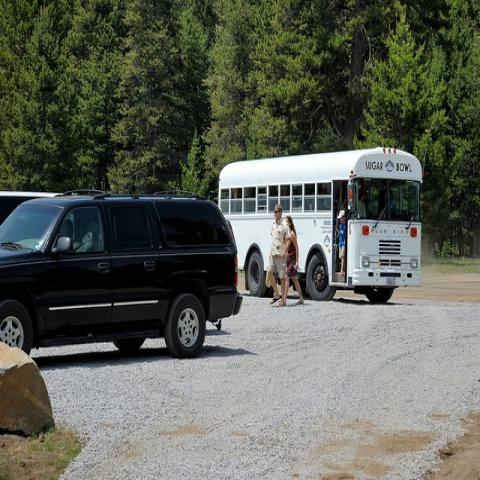bus: (218, 147, 424, 302)
truck: (0, 189, 246, 359)
